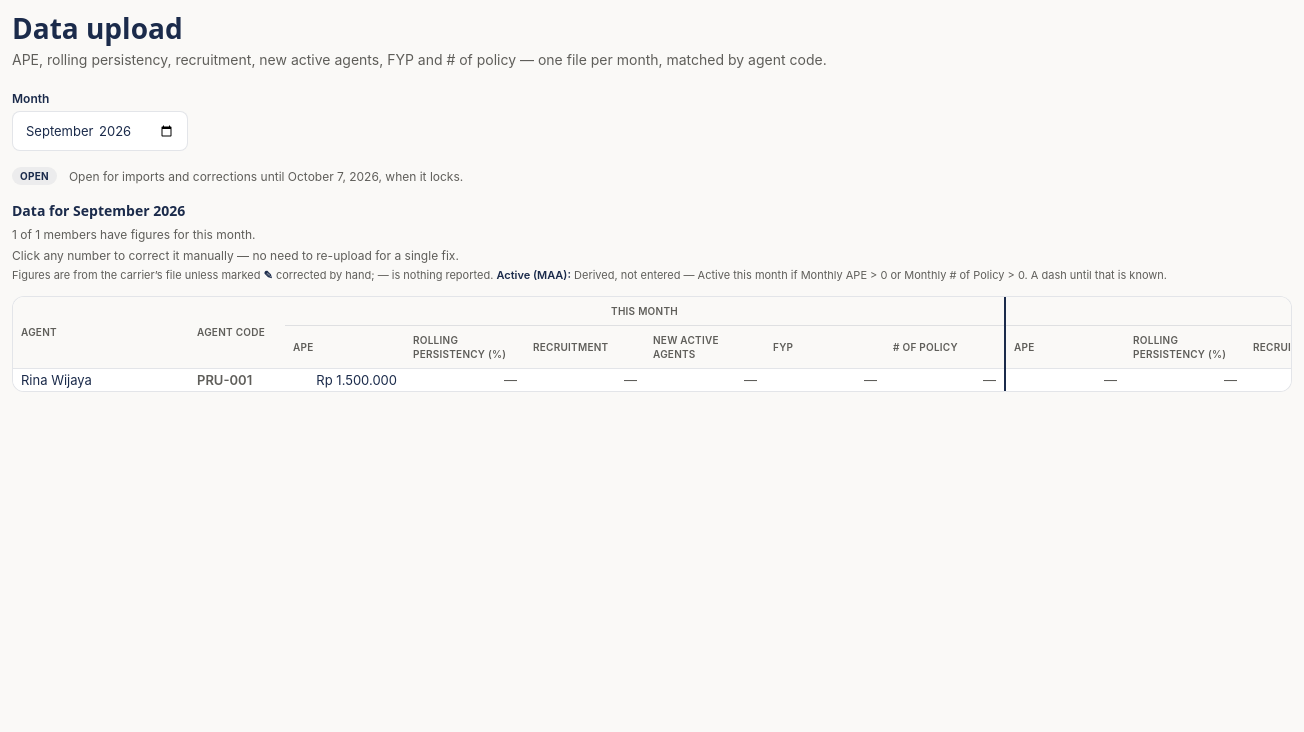
Data upload — correcting one figure (P9-T5) › sends the figure in sen, with the month’s revision and the reason, and says what changed
Click the button with aria-label "Correct APE this month for Rina Wijaya, now Rp 1.500.000" at (357, 380), box [312, 372, 401, 388]
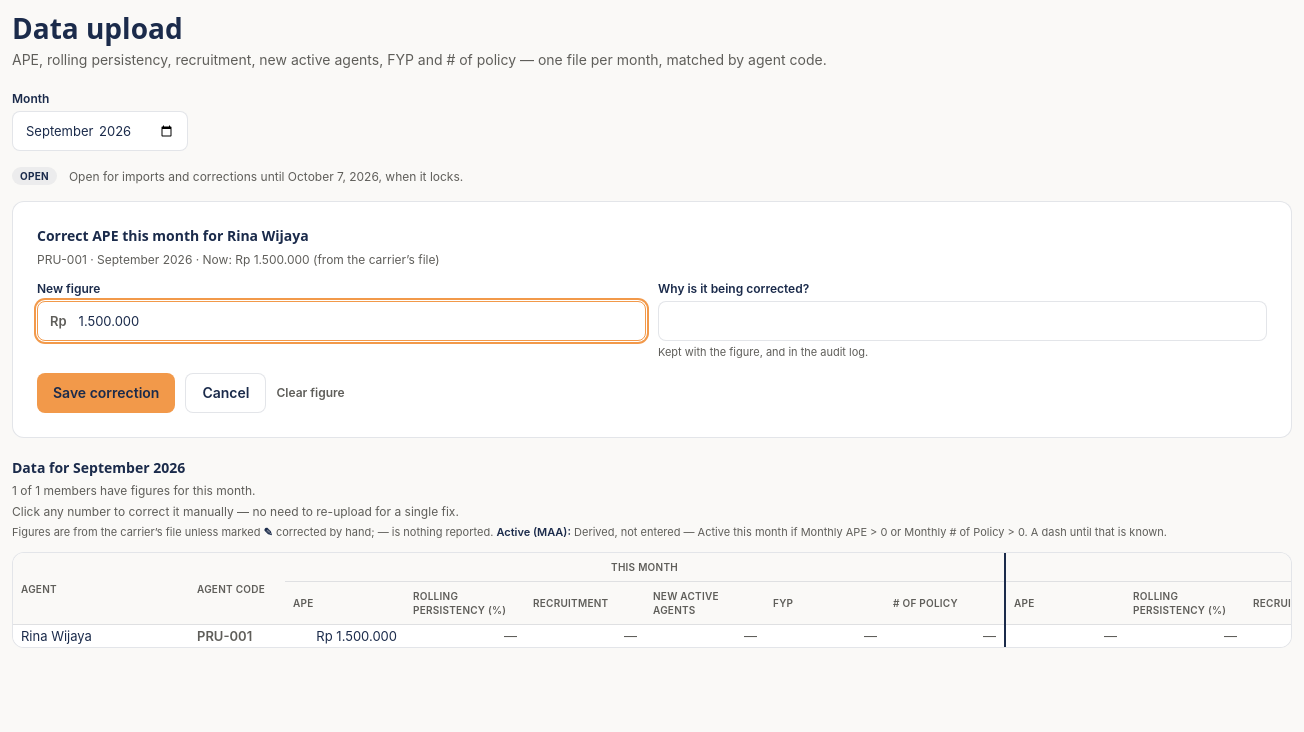
Replace the text in the field labelled "New figure" with "2.000.000" at (362, 321), box [79, 302, 645, 340]
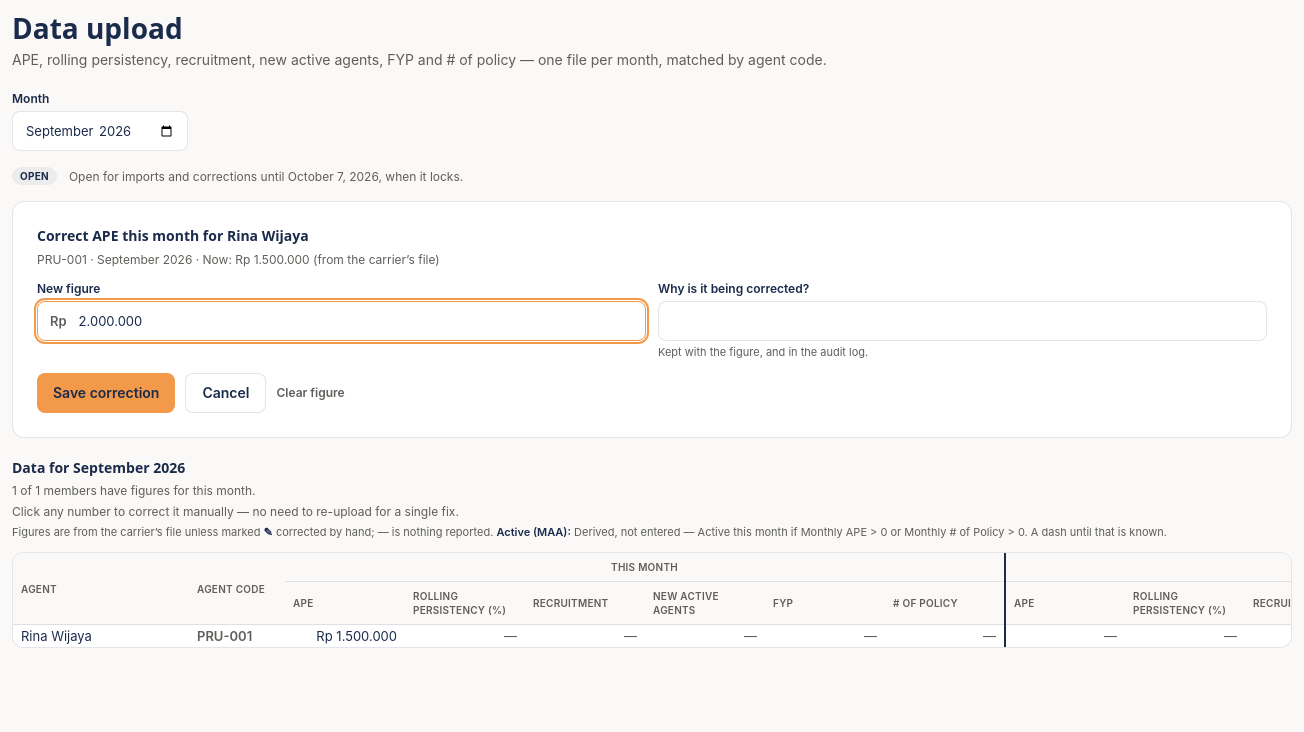
Type "Carrier restated it" into the field labelled "Why is it being corrected?" at (962, 321), box [658, 301, 1267, 341]
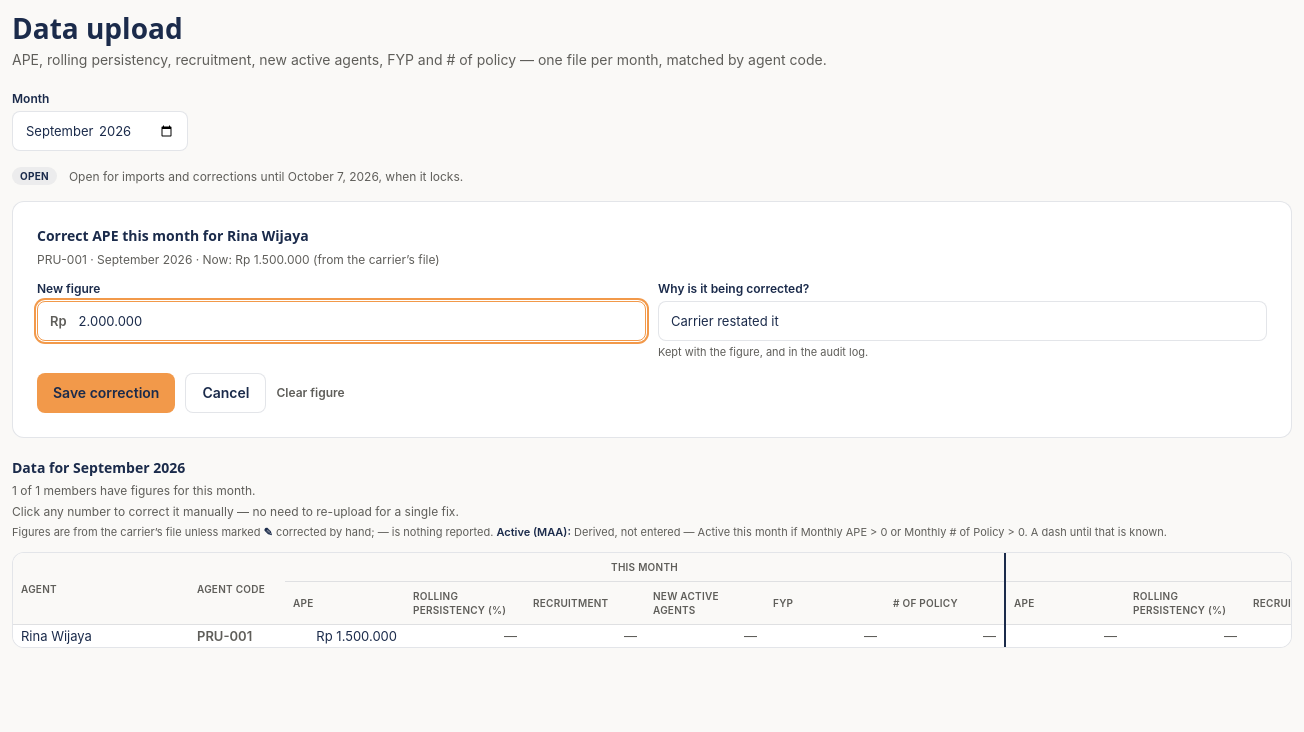
Click the button "Save correction" at (106, 393), box [37, 373, 175, 413]
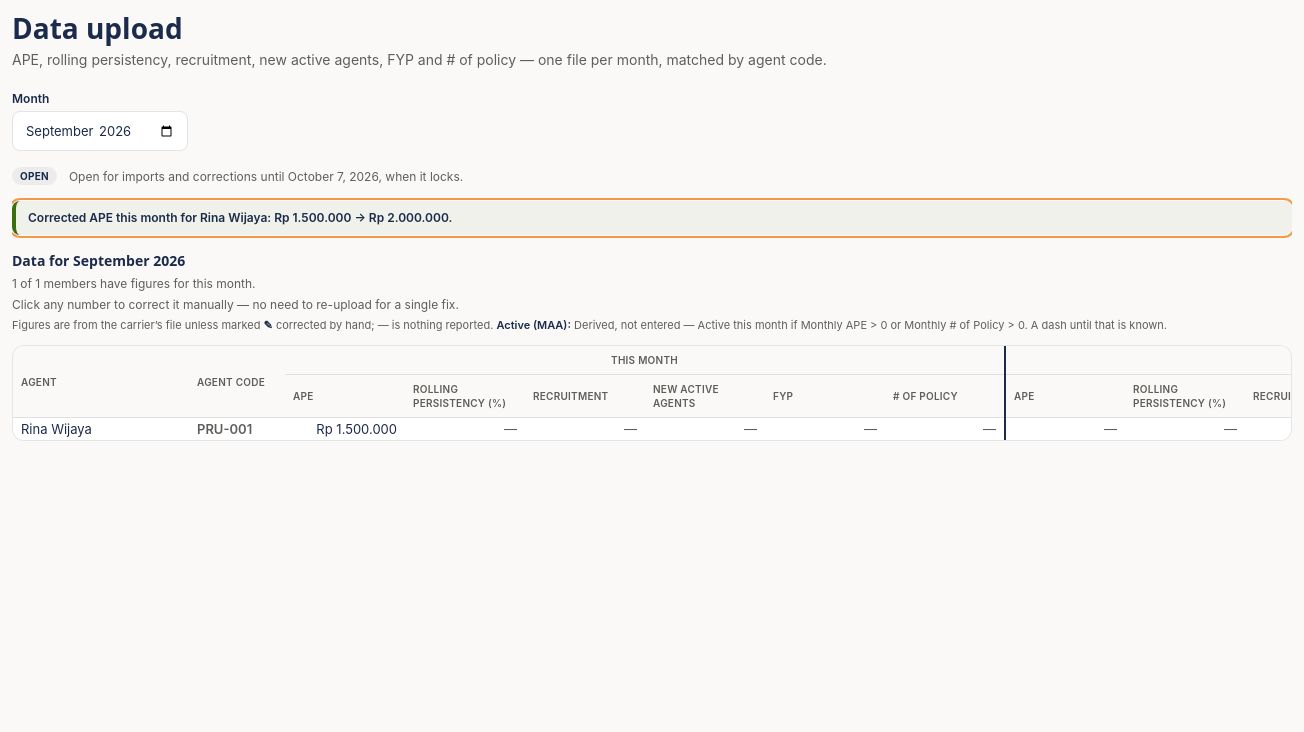
Check: the text "Corrected APE this month for Rina Wijaya: Rp 1.500.000 → Rp 2.000.000." is shown, box [12, 201, 1292, 235]
